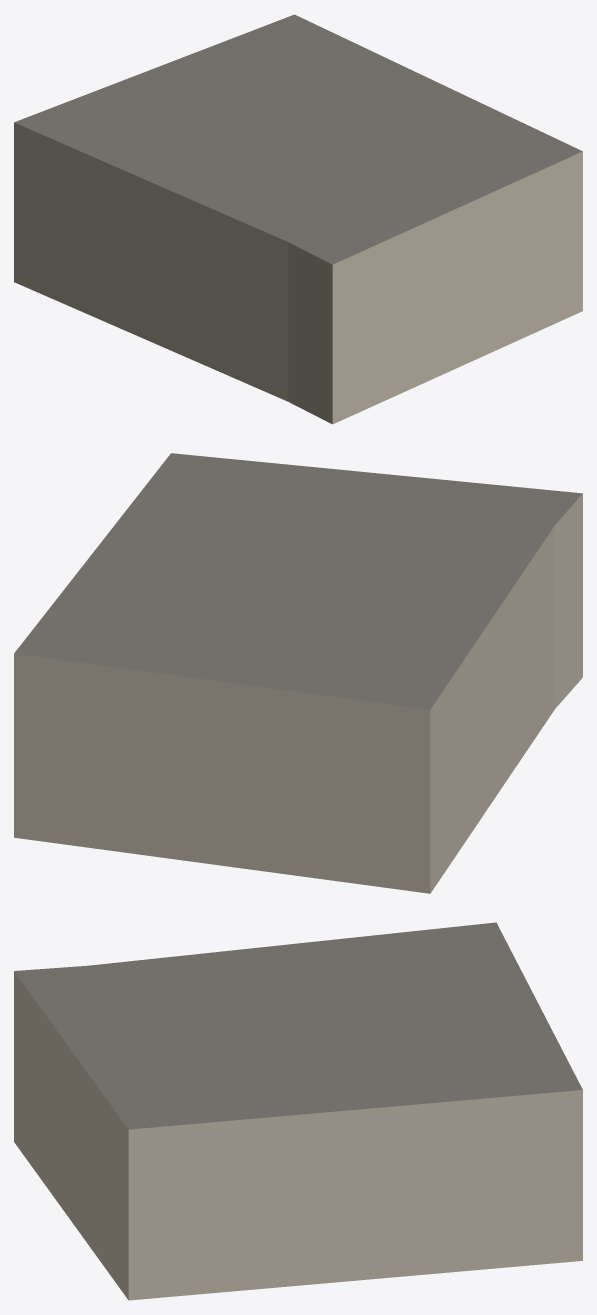
The picture shows the model from 3 angles, top to bottom: view 1: azimuth 30°, elevation 25°; view 2: azimuth 150°, elevation 25°; view 3: azimuth 270°, elevation 25°; orthographic projection. The views are drawn at different scales.
Visible parts, largest first — view 1: HP-w435452367; view 2: HP-w435452367; view 3: HP-w435452367.
Part boxes in pixels (x1,y1,x2,y2): HP-w435452367: [14, 14, 582, 424]; HP-w435452367: [14, 453, 582, 893]; HP-w435452367: [14, 922, 582, 1300].
Bounding box in the file's own units: 46.81 × 18 × 54.32.
